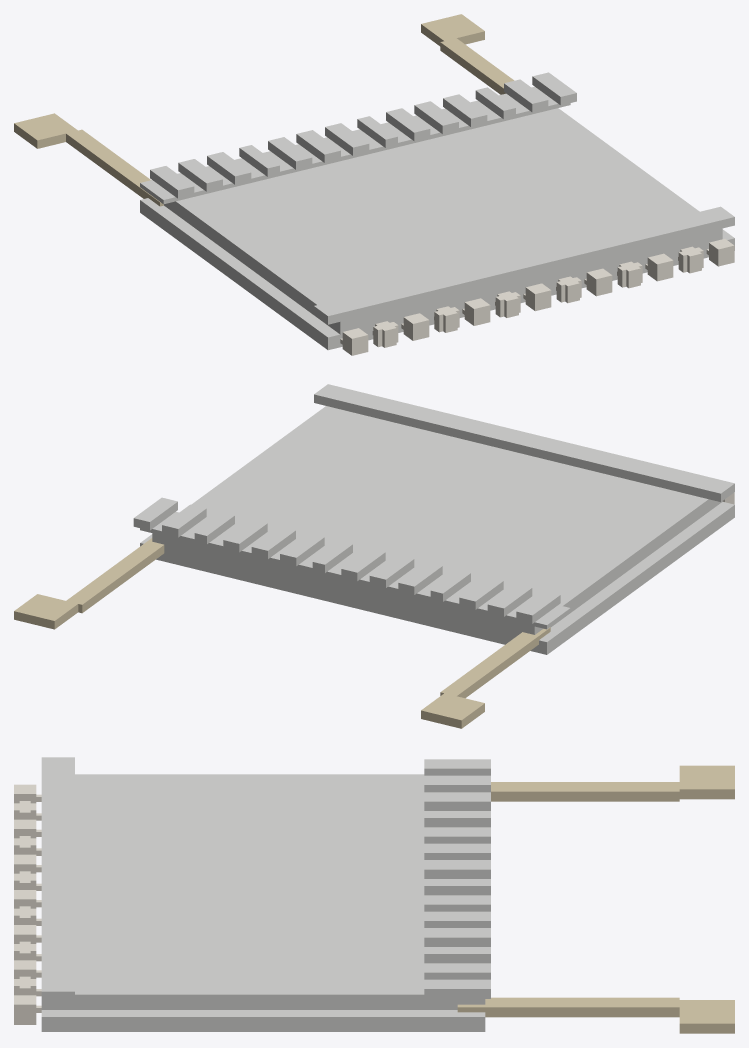
Rendered from face_veil.glb.
3 views of the same model, one above another, from view 1: azimuth 30°, elevation 25°; view 2: azimuth 150°, elevation 25°; view 3: azimuth 270°, elevation 25° (orthographic). The views are drawn at different scales.
Visible parts, largest first — view 1: face_veil:compound; view 2: face_veil:compound; view 3: face_veil:compound.
Part boxes in pixels (left/top/right/bottom): face_veil:compound: left=14, top=14, right=734, bottom=355; face_veil:compound: left=14, top=384, right=734, bottom=728; face_veil:compound: left=14, top=757, right=734, bottom=1033.
Size of the model in its own units: 0.22 by 0.018 by 0.26.
